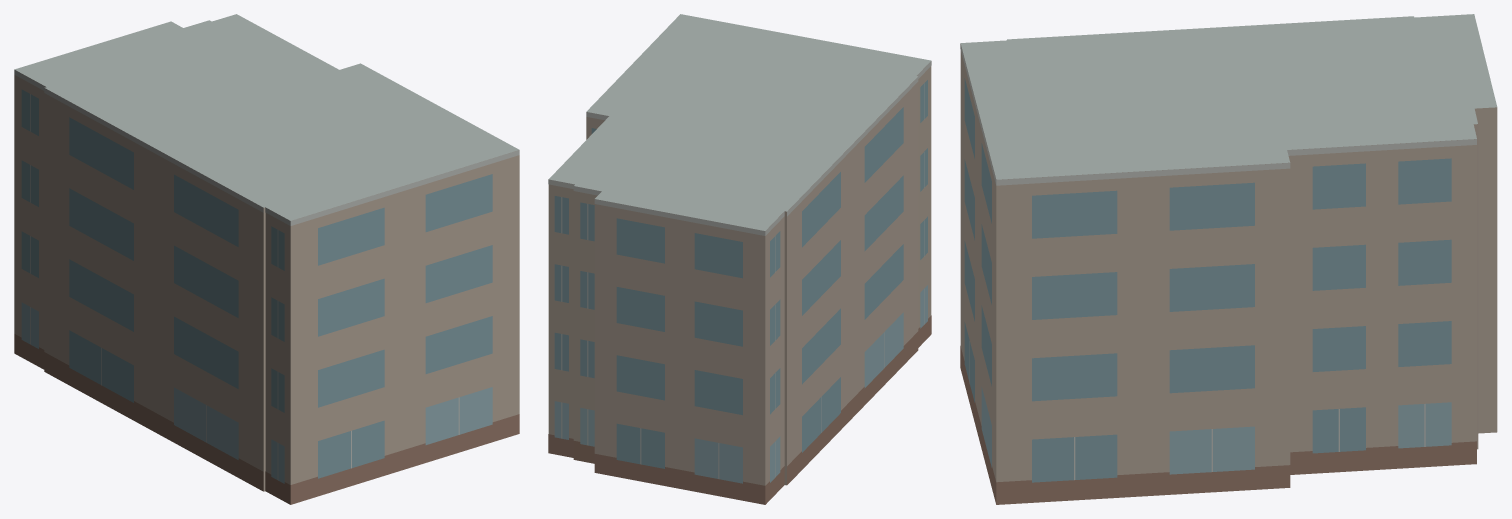
Rendered from survey-upis-32918264.glb.
The picture shows the model from 3 angles, left to right: view 1: azimuth 30°, elevation 25°; view 2: azimuth 150°, elevation 25°; view 3: azimuth 270°, elevation 25°; orthographic projection. The views are drawn at different scales.
Visible parts, largest first — view 1: survey-upis-32918264.tmp; view 2: survey-upis-32918264.tmp; view 3: survey-upis-32918264.tmp.
Part boxes in pixels (x1=…): survey-upis-32918264.tmp: x1=14, y1=14, x2=519, y2=504; survey-upis-32918264.tmp: x1=548, y1=14, x2=931, y2=504; survey-upis-32918264.tmp: x1=960, y1=14, x2=1497, y2=504.
Size of the model in its own units: 14.62 by 13.36 by 20.
